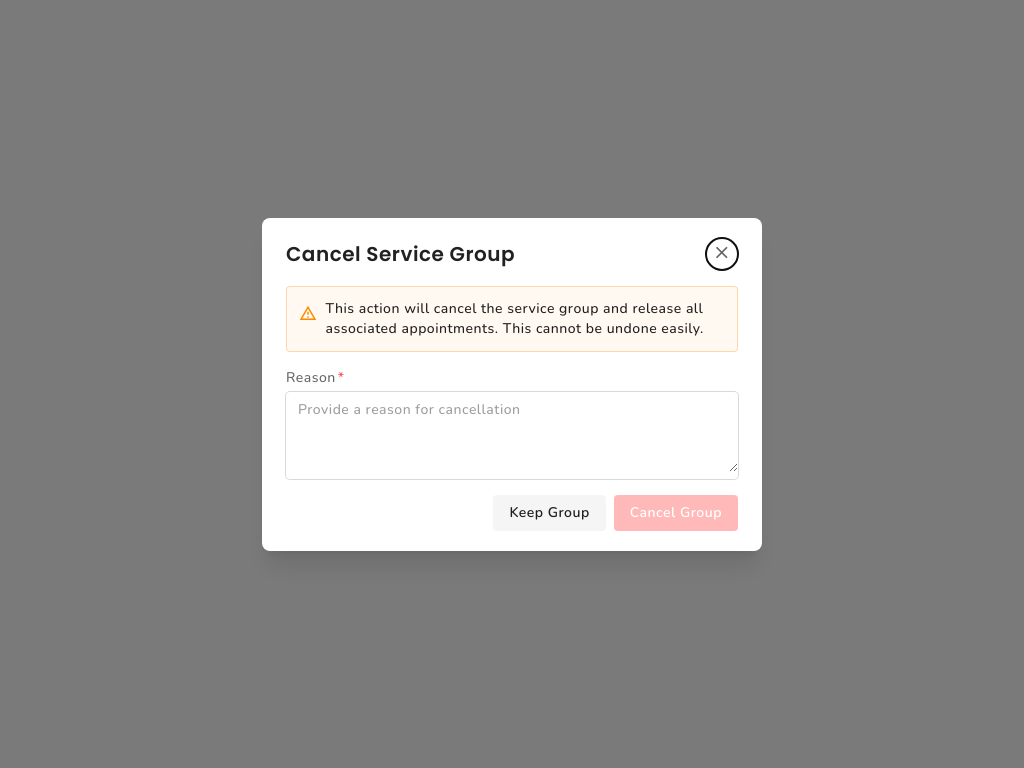
Test: CancelGroupModal › enables Cancel Group button when reason is provided
This screenshot has width=1024, height=768.
Step 1. Type "Weather issues" into the text box named "Cancellation reason" → (512, 432), box x1=286 y1=392 x2=738 y2=472
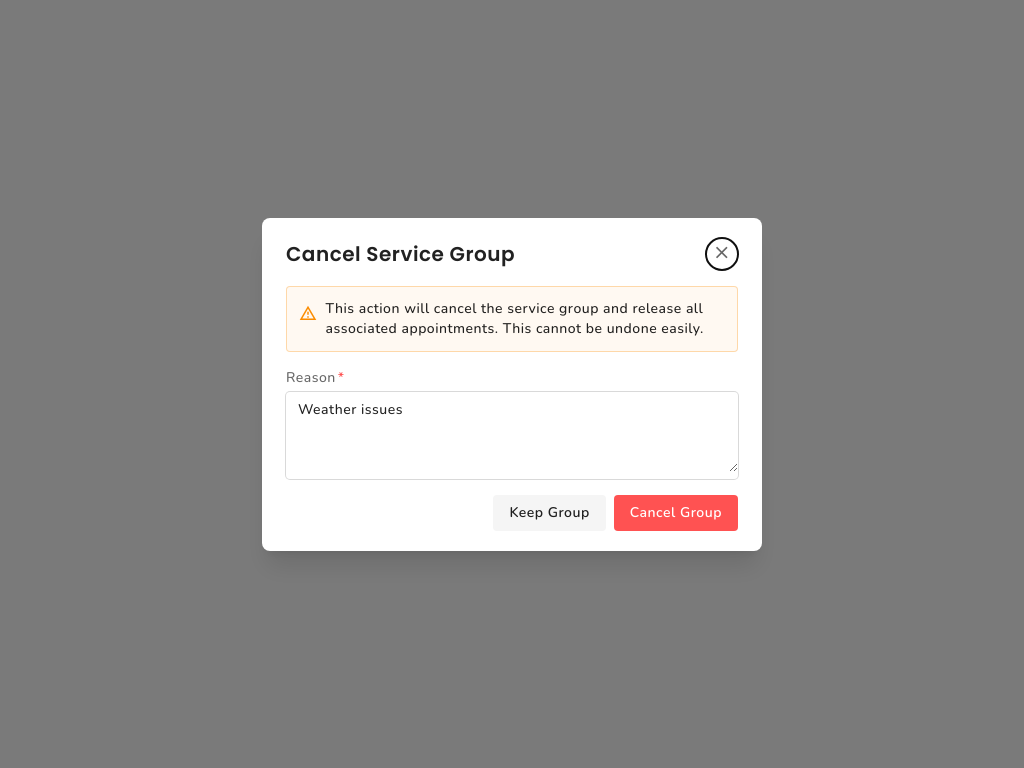
Expected: the button "Cancel Group" is enabled, x1=614 y1=494 x2=738 y2=530
